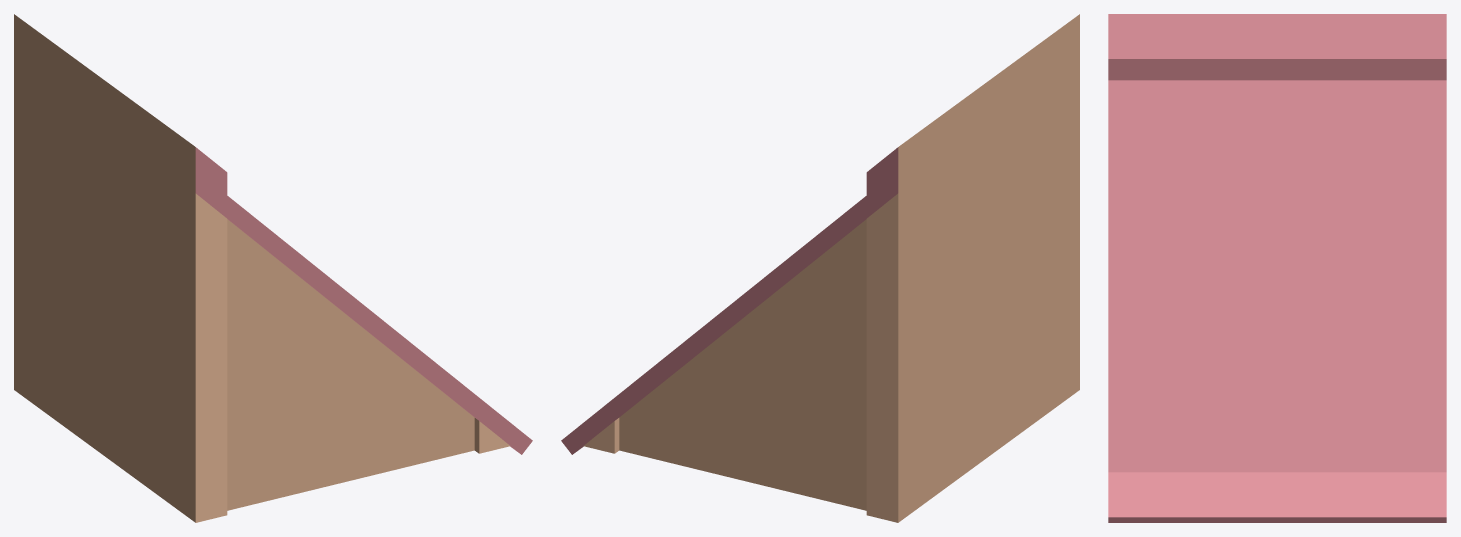
File: roofHigh.glb
3 views of the same model, side by side, from view 1: azimuth 30°, elevation 25°; view 2: azimuth 150°, elevation 25°; view 3: azimuth 270°, elevation 25° (orthographic). The views are drawn at different scales.
Parts seen in each view (by area): view 1: roofHigh; view 2: roofHigh; view 3: roofHigh.
Boxes of the visible parts, x1=… form: roofHigh: x1=14, y1=14, x2=532, y2=522; roofHigh: x1=561, y1=14, x2=1079, y2=522; roofHigh: x1=1108, y1=14, x2=1446, y2=522.
Bounding box in the file's own units: 1.07 × 1.18 × 1.
